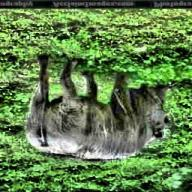boar: (24, 55, 176, 162)
